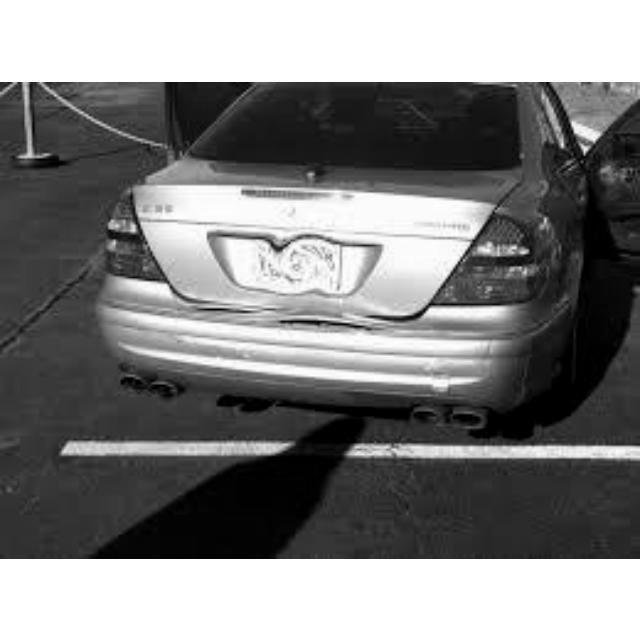boot-dent: (203, 195, 404, 330)
rear-bumper-dent: (146, 326, 525, 409)
